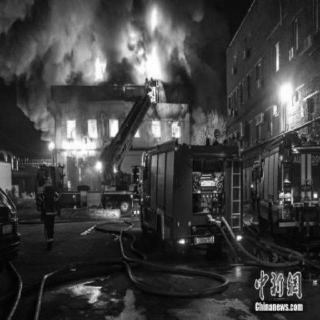Fire: (90, 47, 112, 85), (150, 118, 162, 140)
other: (147, 84, 164, 103)
